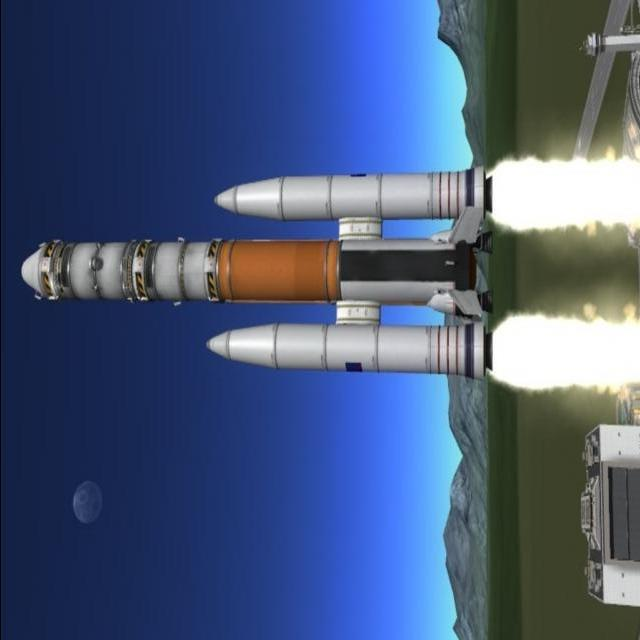missile: (17, 153, 520, 380)
